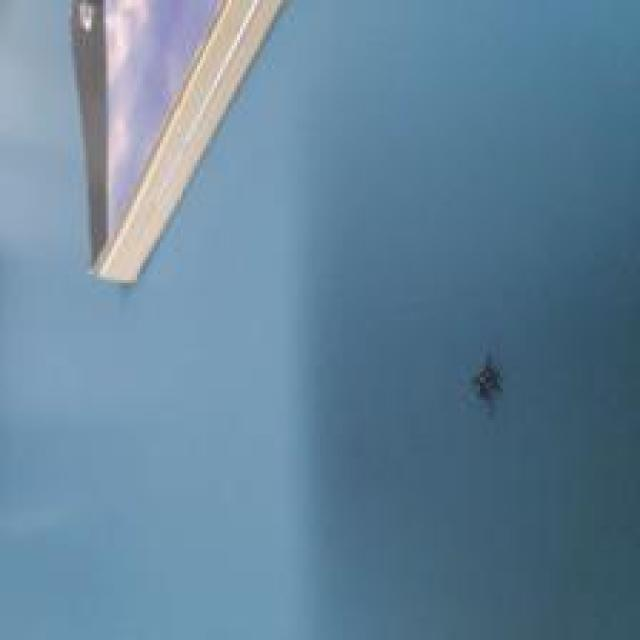Aedes albopictus: (470, 352, 504, 414)
